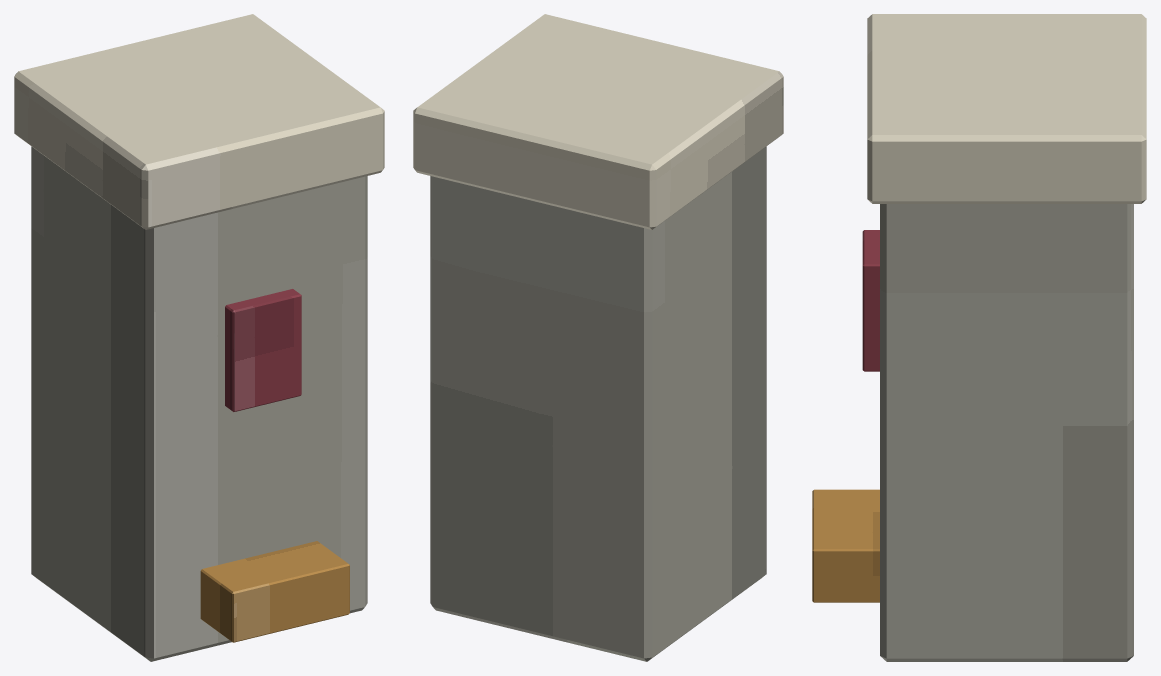
File: public_sanitary_bin.glb
3 views of the same model, side by side, from view 1: azimuth 30°, elevation 25°; view 2: azimuth 150°, elevation 25°; view 3: azimuth 270°, elevation 25° (orthographic). The views are drawn at different scales.
Visible parts, largest first — view 1: SanitaryBinBody, SanitaryBinLid, SanitaryBinPedal, SanitaryMark; view 2: SanitaryBinBody, SanitaryBinLid; view 3: SanitaryBinBody, SanitaryBinLid, SanitaryBinPedal, SanitaryMark.
Boxes of the visible parts, <box> form: SanitaryBinBody: <box>31,146,367,661</box>; SanitaryBinLid: <box>14,14,384,229</box>; SanitaryBinPedal: <box>200,541,349,642</box>; SanitaryMark: <box>225,289,301,411</box>; SanitaryBinBody: <box>430,146,766,661</box>; SanitaryBinLid: <box>413,14,783,229</box>; SanitaryBinBody: <box>880,204,1133,661</box>; SanitaryBinLid: <box>867,14,1146,203</box>; SanitaryBinPedal: <box>812,489,879,602</box>; SanitaryMark: <box>862,230,879,371</box>.
Bounding box in the file's own units: 0.35 × 0.695 × 0.395.
1 material, 1 textured.
